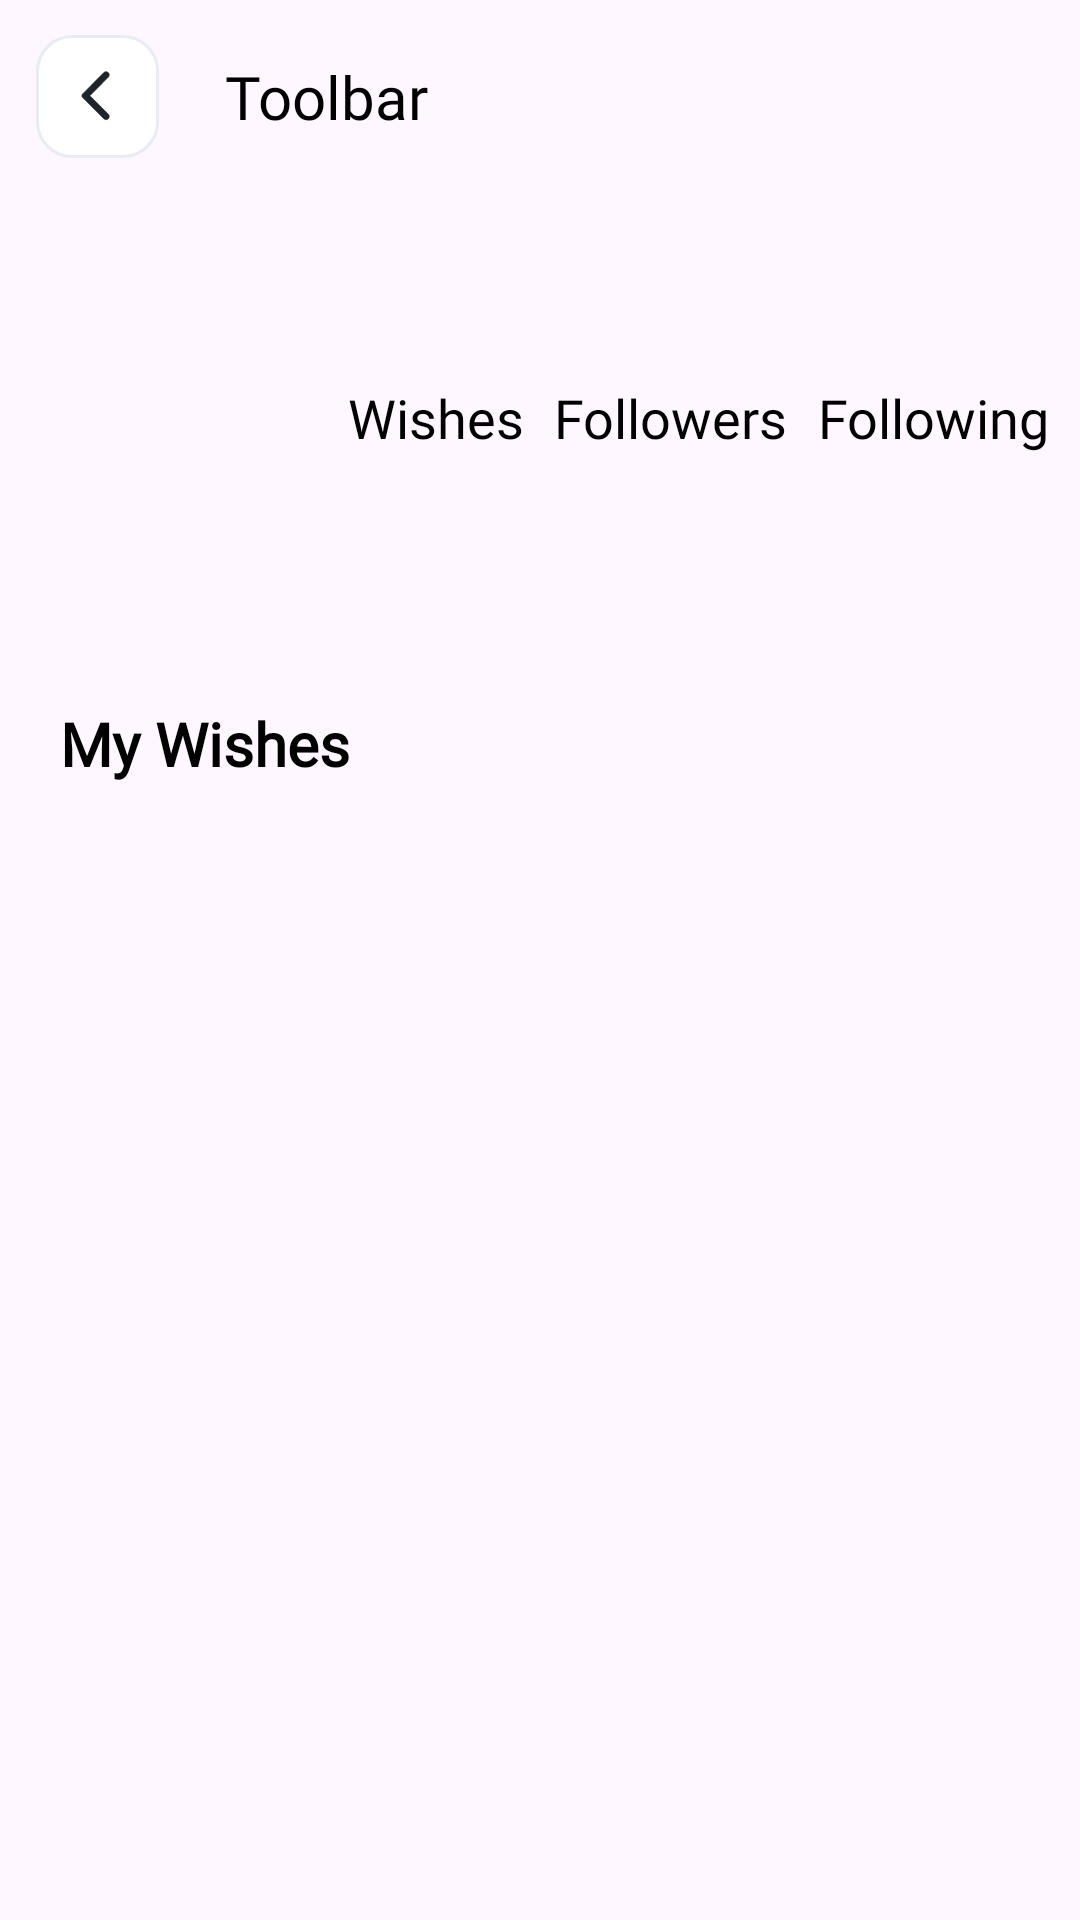

Named icons in this screenshot (1080px x 1920px) and their centers, point (x, y):
back: point (95, 95)
